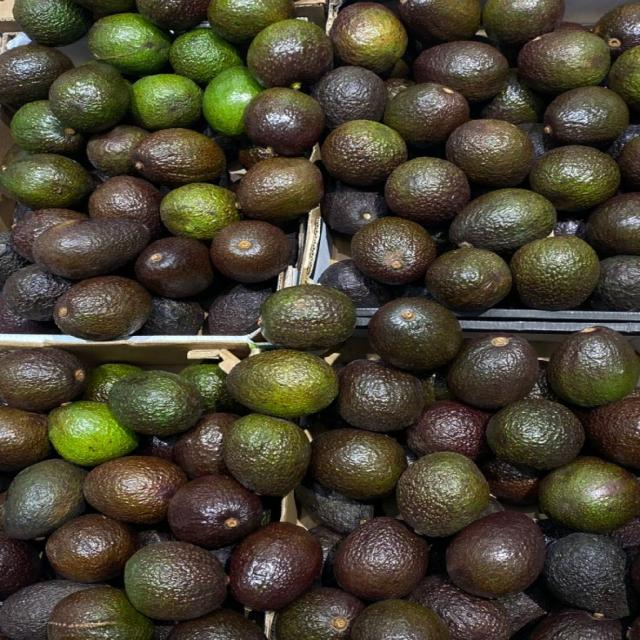avocado: (447, 511, 545, 598), (229, 522, 322, 610), (334, 517, 428, 600), (397, 452, 489, 536), (543, 533, 633, 617), (227, 350, 338, 418), (540, 457, 639, 533), (547, 327, 639, 407), (222, 414, 311, 495), (487, 399, 585, 471), (33, 219, 149, 279), (84, 456, 186, 524), (167, 475, 262, 548), (449, 189, 556, 253), (448, 333, 538, 409), (310, 429, 406, 499), (369, 298, 462, 370), (3, 459, 86, 539), (510, 237, 599, 310), (409, 575, 510, 639), (54, 276, 152, 340), (260, 285, 356, 349), (46, 514, 136, 582), (338, 360, 424, 431), (107, 371, 201, 435), (247, 19, 333, 88), (518, 30, 610, 94), (48, 401, 138, 466), (447, 120, 534, 187), (414, 41, 508, 102), (47, 586, 153, 639), (385, 158, 470, 224), (384, 82, 469, 148), (321, 121, 407, 186), (49, 63, 130, 132), (236, 157, 323, 221), (352, 217, 435, 284), (244, 87, 325, 155), (426, 247, 512, 311), (330, 2, 407, 73), (0, 348, 86, 411), (0, 580, 91, 639), (132, 128, 226, 185), (87, 14, 171, 75), (211, 220, 293, 282), (544, 87, 629, 146), (0, 154, 91, 208), (407, 400, 488, 459), (312, 66, 388, 128), (135, 237, 213, 297), (88, 176, 162, 239), (160, 183, 241, 240), (274, 588, 364, 639), (0, 44, 73, 106), (203, 66, 262, 137), (174, 413, 238, 478), (170, 29, 242, 86), (131, 74, 202, 131), (350, 600, 452, 639), (295, 483, 374, 533), (11, 100, 84, 154), (482, 0, 564, 48), (11, 209, 85, 262), (2, 265, 71, 321), (585, 398, 639, 468), (208, 0, 293, 43), (320, 183, 389, 235), (481, 69, 546, 124), (399, 0, 480, 44), (319, 260, 393, 308), (14, 0, 91, 46), (207, 284, 273, 335), (0, 407, 51, 471), (587, 193, 639, 255), (87, 125, 148, 176), (167, 609, 265, 639), (529, 609, 624, 639), (0, 532, 41, 599), (180, 364, 235, 413), (499, 584, 552, 634), (591, 256, 639, 311), (481, 459, 539, 504), (140, 297, 205, 335), (0, 293, 59, 334), (594, 3, 639, 56), (136, 0, 208, 31), (82, 364, 139, 402), (310, 526, 345, 587), (609, 47, 639, 110), (0, 231, 29, 285), (518, 123, 555, 159), (526, 360, 558, 401), (607, 124, 639, 160), (136, 434, 177, 462), (238, 141, 277, 169), (618, 138, 639, 190), (77, 0, 135, 15), (554, 214, 586, 239), (0, 144, 31, 167), (385, 78, 415, 100), (629, 618, 639, 639)
